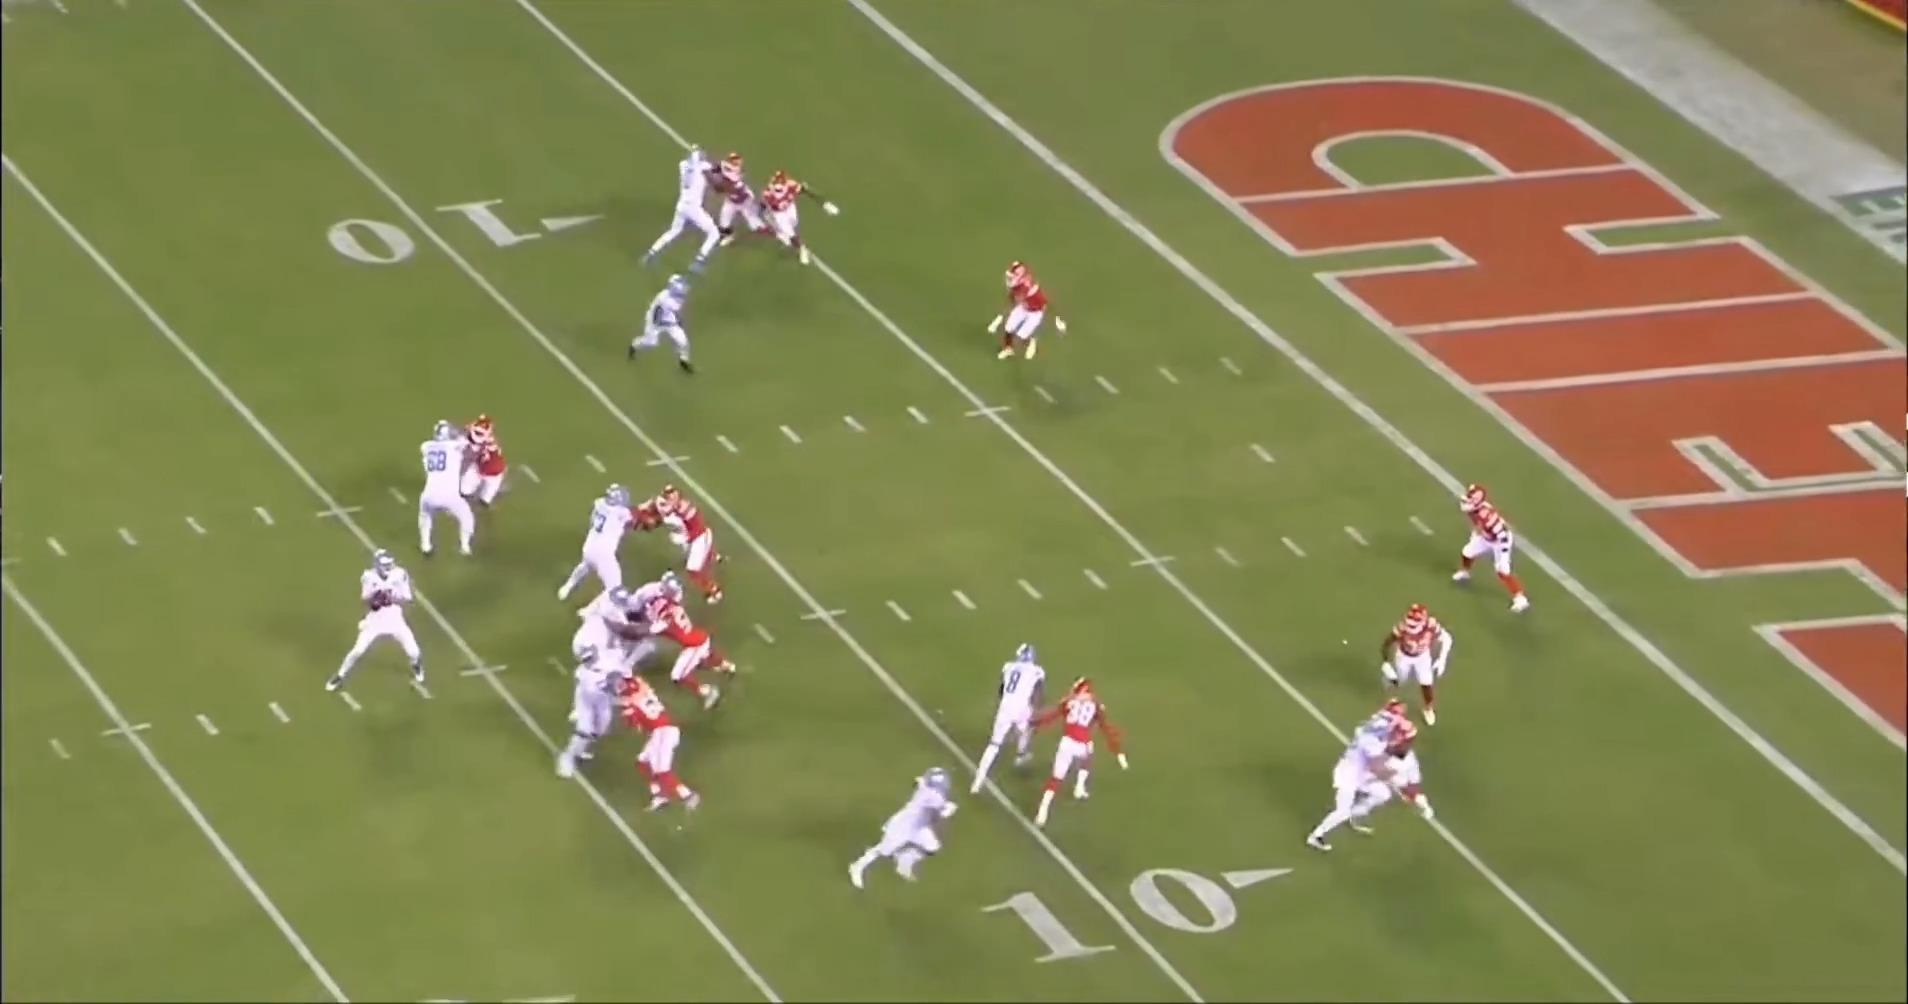player: (320, 544, 434, 696), (1296, 704, 1407, 850), (1035, 677, 1135, 830), (839, 764, 957, 893), (614, 672, 710, 818), (547, 631, 639, 780), (972, 640, 1057, 797), (643, 142, 742, 273), (560, 485, 658, 613), (1452, 485, 1534, 621), (413, 419, 488, 566), (651, 596, 744, 709), (1353, 704, 1436, 827), (1384, 604, 1459, 733), (655, 482, 734, 603), (989, 261, 1069, 371), (625, 270, 704, 381), (748, 164, 830, 268), (461, 410, 509, 532), (712, 146, 769, 247), (620, 574, 675, 662), (565, 583, 626, 660)
